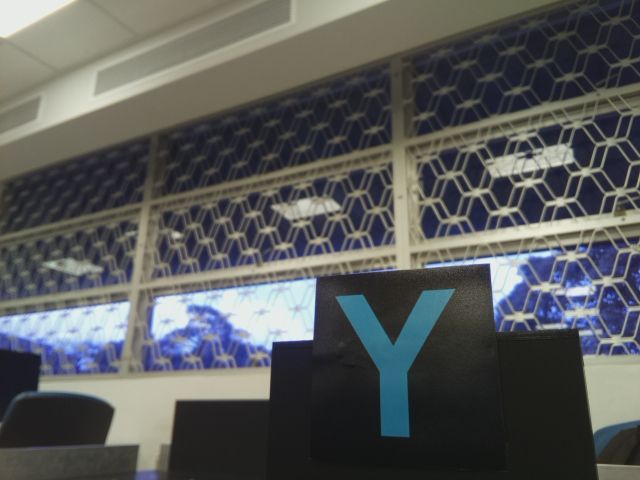y: (332, 288, 460, 450)
